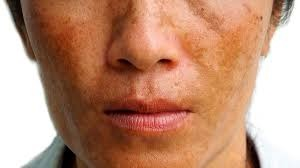Melasma: (171, 2, 255, 106), (52, 3, 108, 125), (76, 133, 167, 160), (30, 9, 49, 55)
